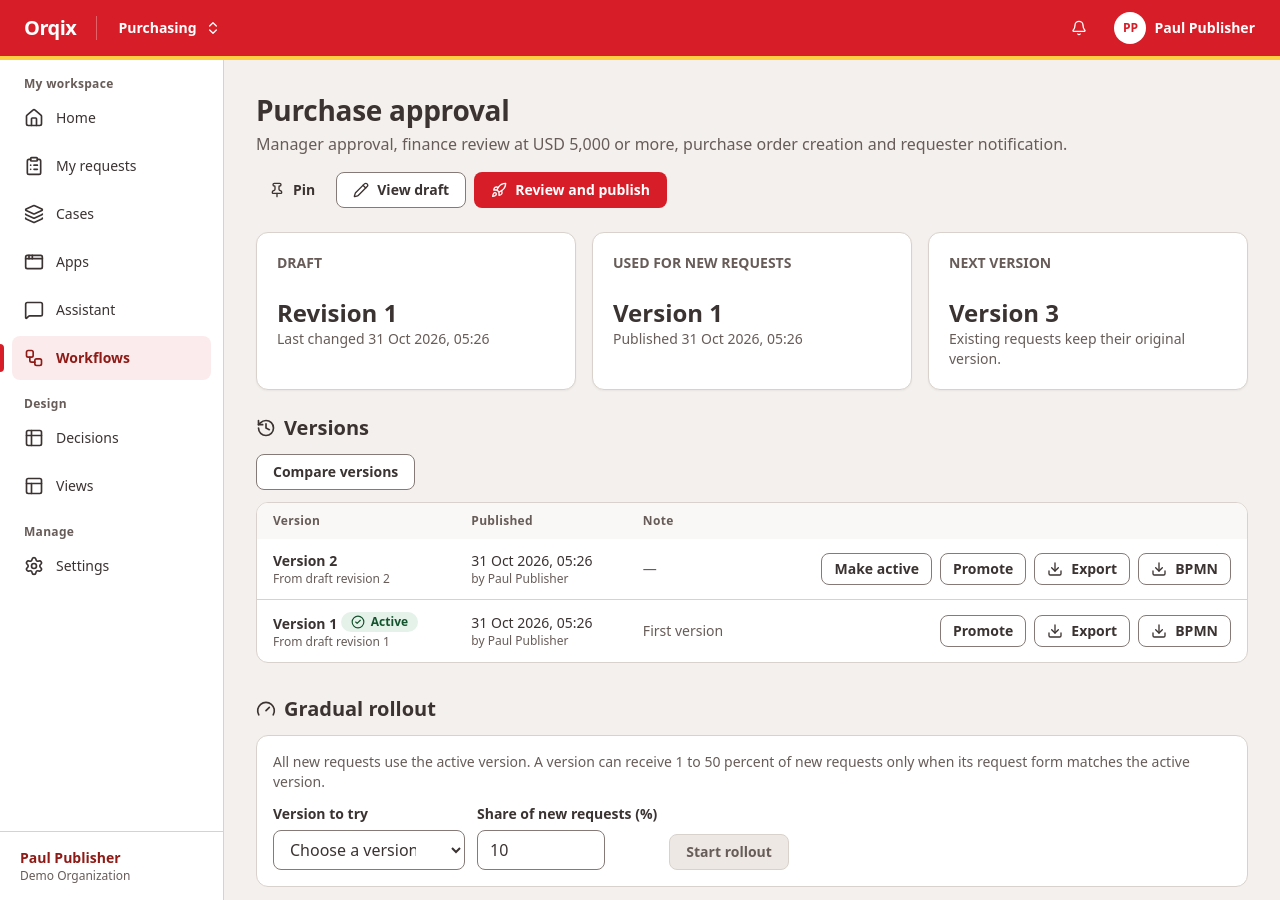
Test: gradual rollout and per-version figures (PL02) › lets a publisher start and stop a rollout of another version
Select "Version 2" in the dropdown labelled "Version to try": (369, 850) [273,830,465,870]
(page scrolled)
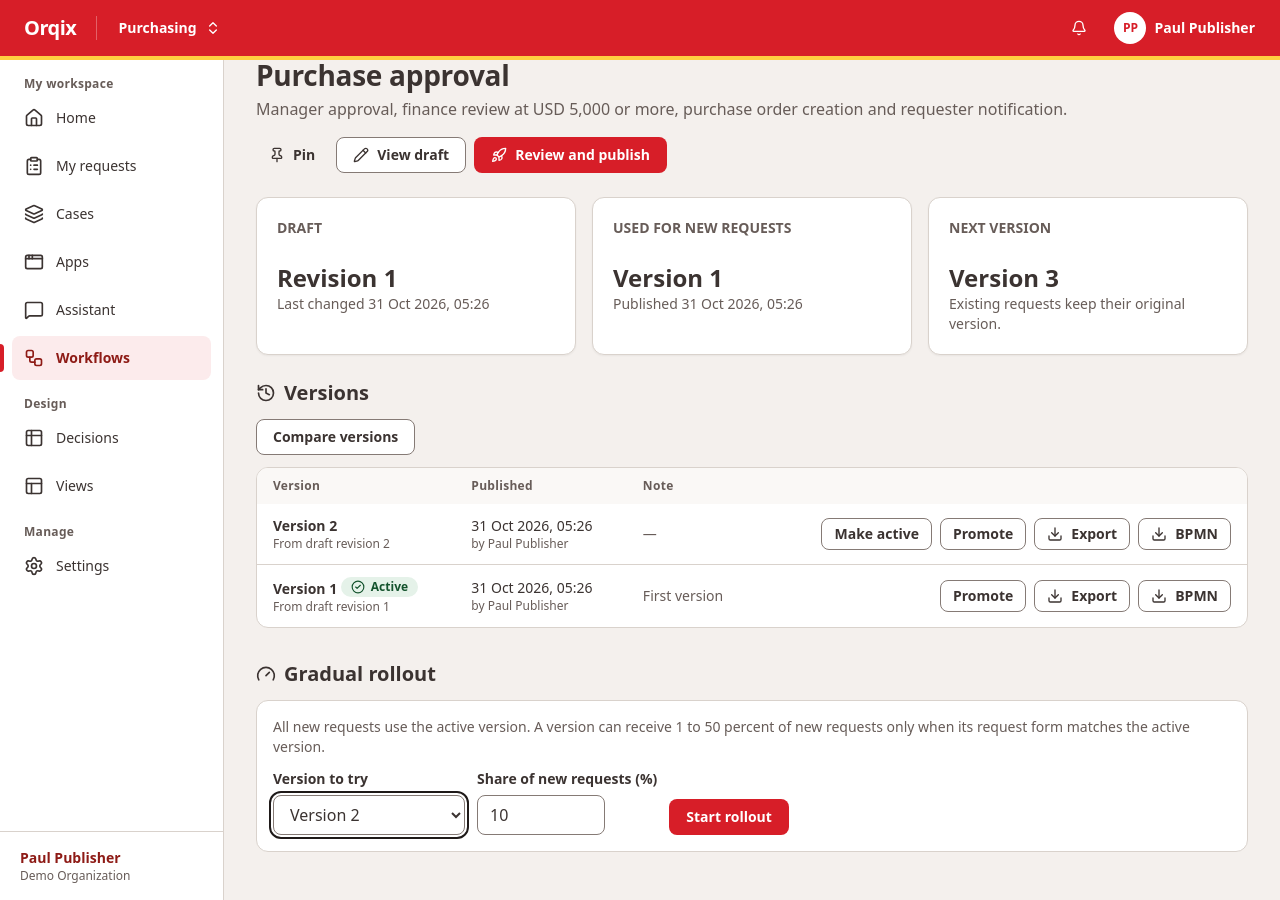
Replace the text in the number field labelled "Share of new requests (%)" with "25": (541, 815) [477,795,605,835]
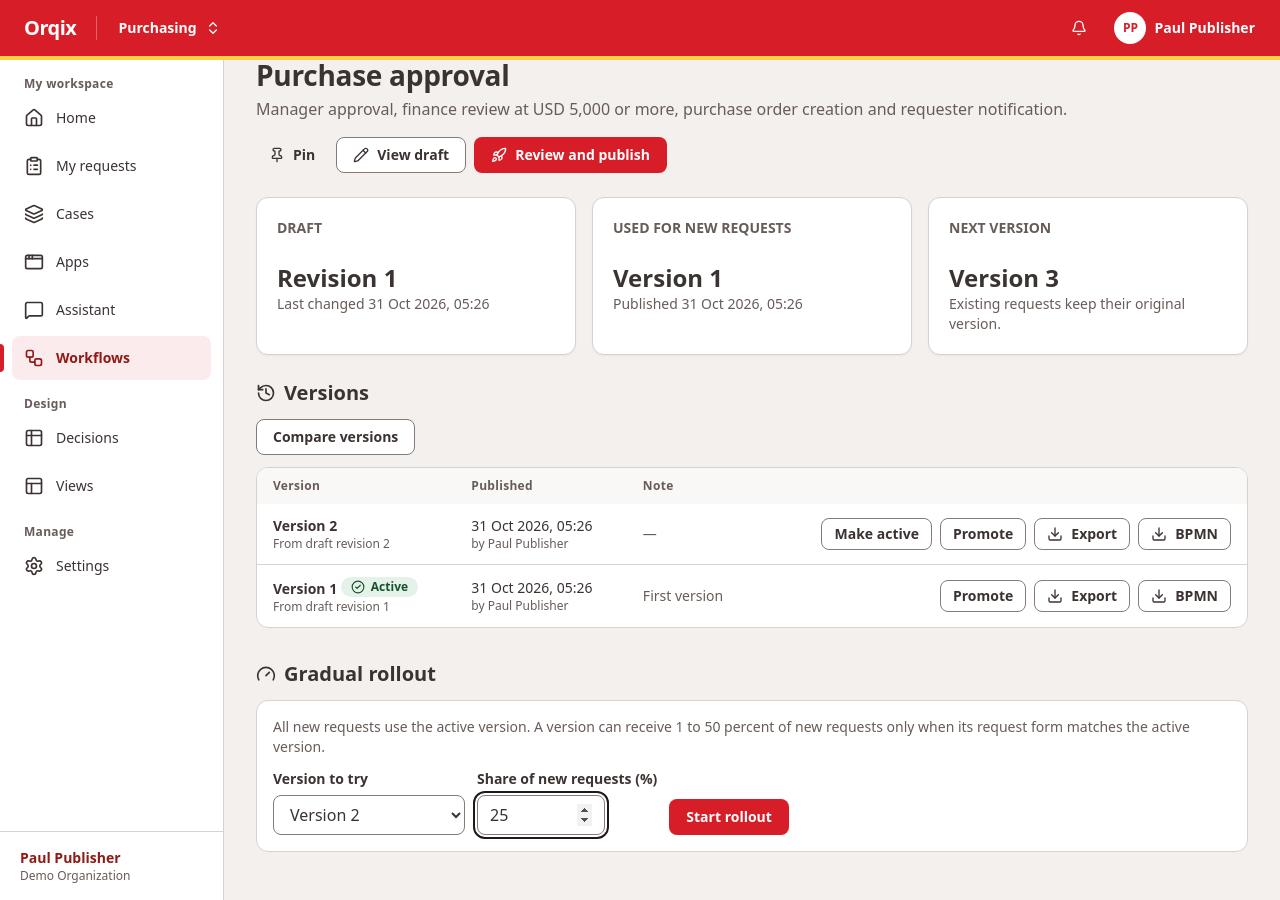
Click the button "Start rollout": click(729, 817) [669,799,789,835]
(page scrolled)
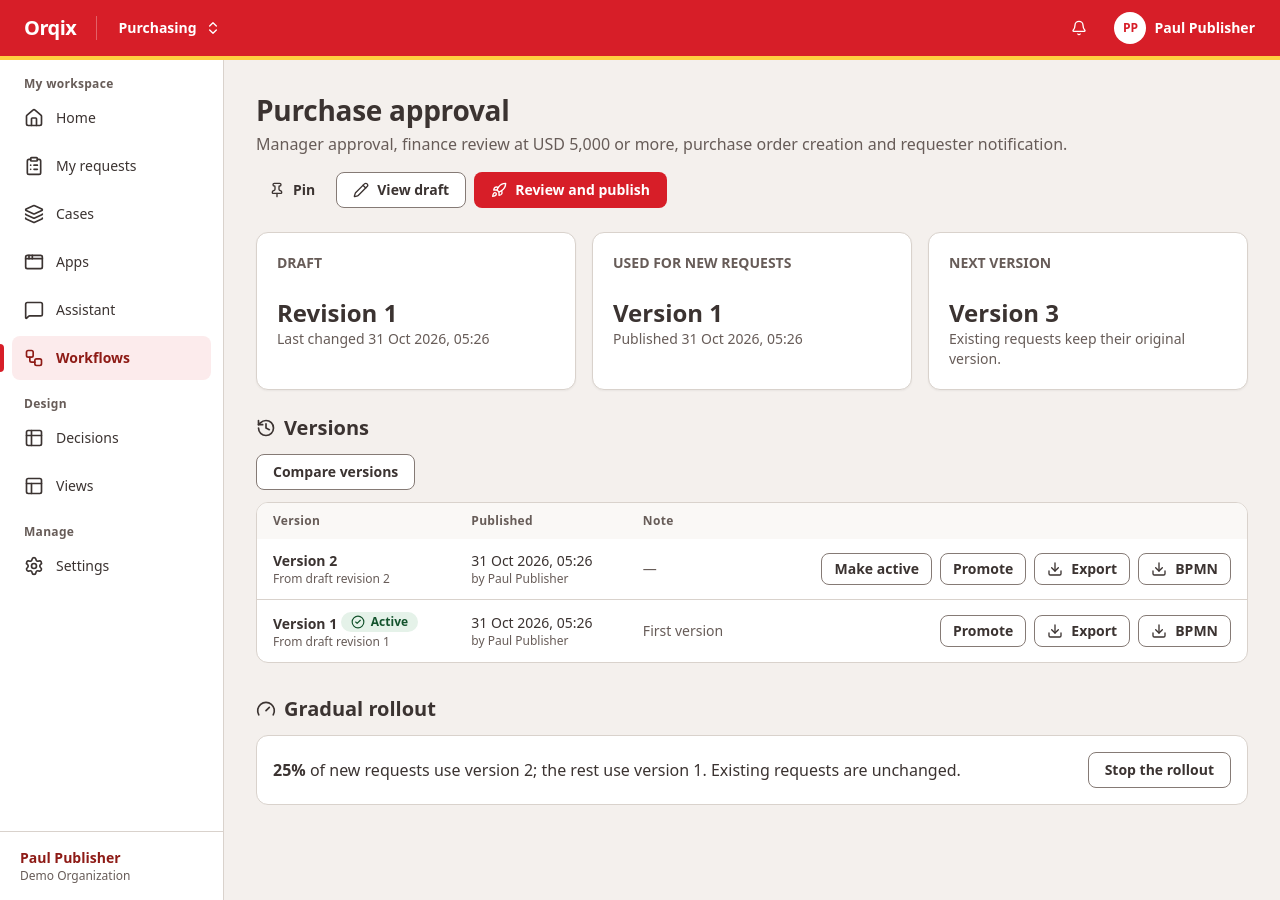
Expected: the element with test id "canary-status" shows "25% of new requests use version 2", [273,758,961,782]
Click the button "Stop the rollout": click(1159, 770) [1088,752,1231,788]
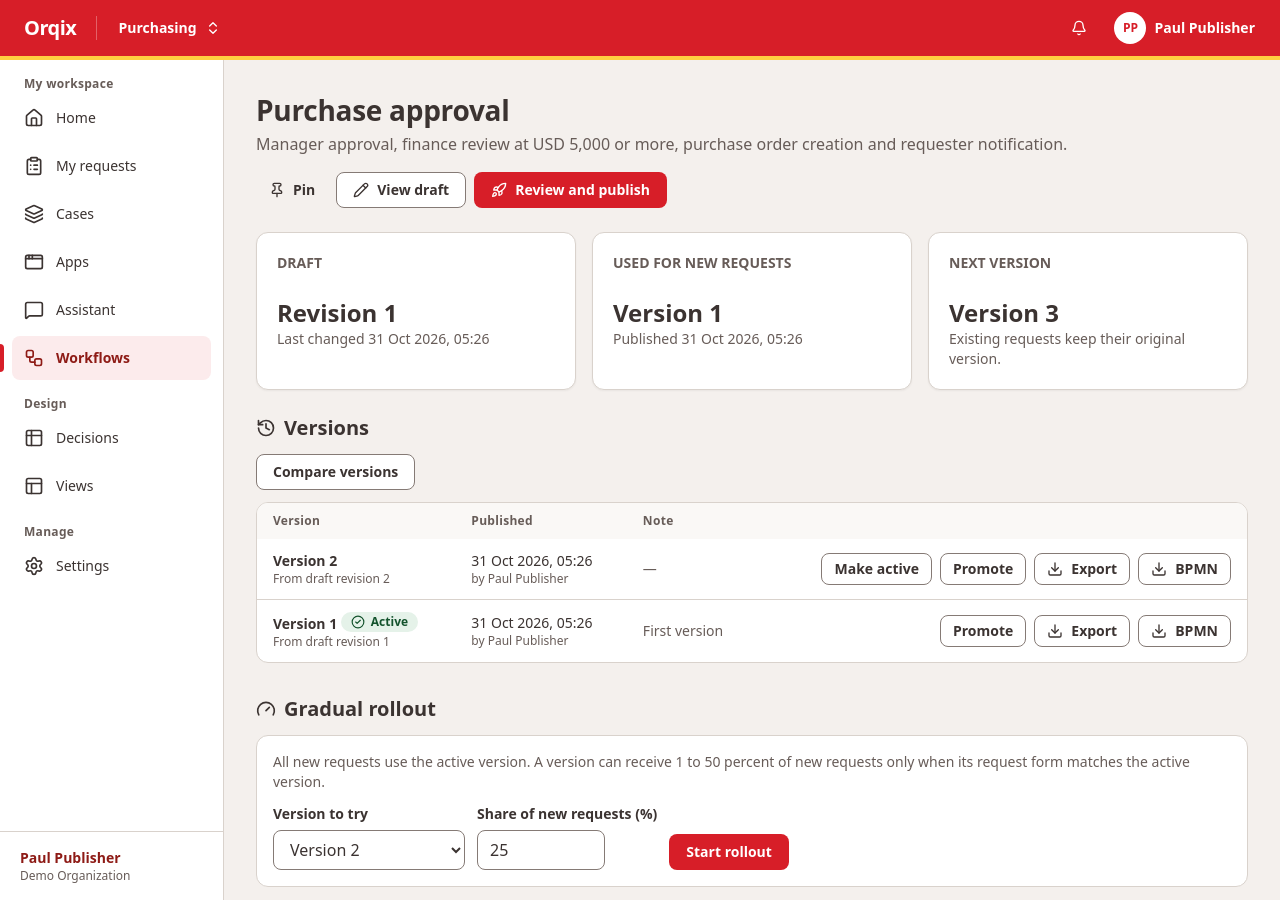
Expected: the element with test id "canary-status" is gone
Expected: the dropdown labelled "Version to try" is shown, [273,830,465,870]
